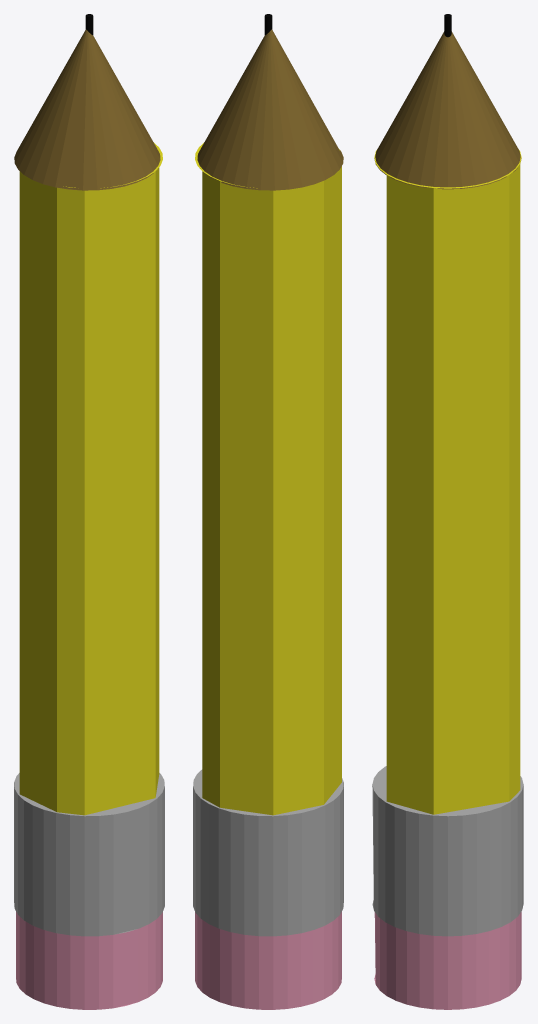
The model's file is pencil.fbx.
The picture shows the model from 3 angles, left to right: view 1: azimuth 30°, elevation 25°; view 2: azimuth 150°, elevation 25°; view 3: azimuth 270°, elevation 25°; orthographic projection.
Visible parts, largest first — view 1: Cylinder.001, Cylinder, Cone, Cylinder.002; view 2: Cylinder.001, Cylinder, Cone, Cylinder.002; view 3: Cylinder.001, Cylinder, Cone, Cylinder.002.
Part boxes in pixels (x1,y1,x2,y2): Cylinder.001: (19, 143, 162, 815); Cylinder: (14, 773, 164, 936); Cone: (14, 29, 160, 190); Cylinder.002: (16, 912, 162, 1009); Cylinder.001: (195, 143, 341, 815); Cylinder: (193, 769, 343, 936); Cone: (197, 29, 343, 190); Cylinder.002: (195, 912, 341, 1009); Cylinder.001: (374, 150, 521, 814); Cylinder: (372, 766, 523, 936); Cone: (374, 31, 521, 189); Cylinder.002: (374, 912, 521, 1009).
Bounding box in the file's own units: 41.02 × 288 × 41.
